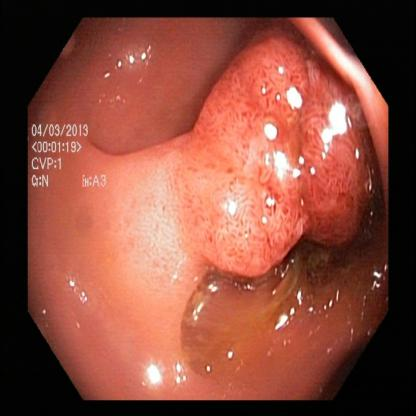Labels: (30, 121, 111, 204)
Polyps: (187, 47, 380, 258)
